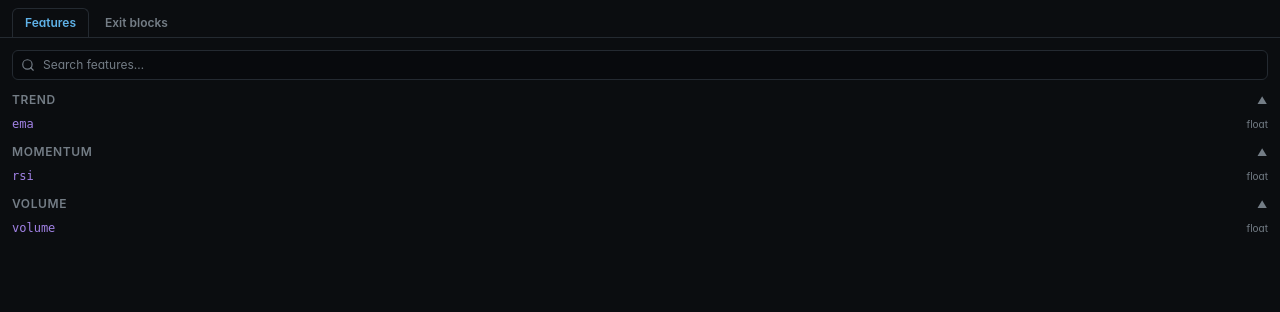
Test: <FeaturePalette /> › clicking Exit blocks tab shows all 4 exit templates as draggable items
expect the text "ema" is shown: met, box [12, 116, 34, 132]
Click the button with test id "exit-blocks-tab" at (136, 22), box [93, 8, 180, 37]
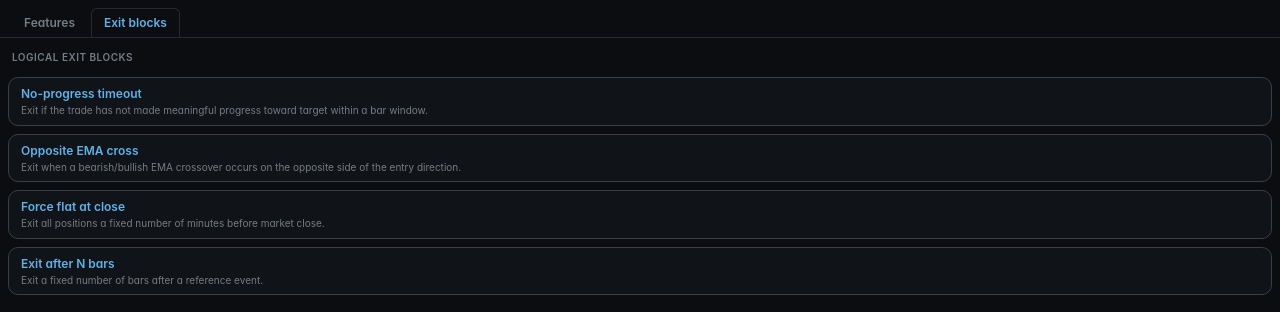
expect the list item with test id "exit-palette-item-no_progress" is shown: met, box [8, 77, 1272, 126]
expect the list item with test id "exit-palette-item-session_end" is shown: met, box [8, 190, 1272, 238]
